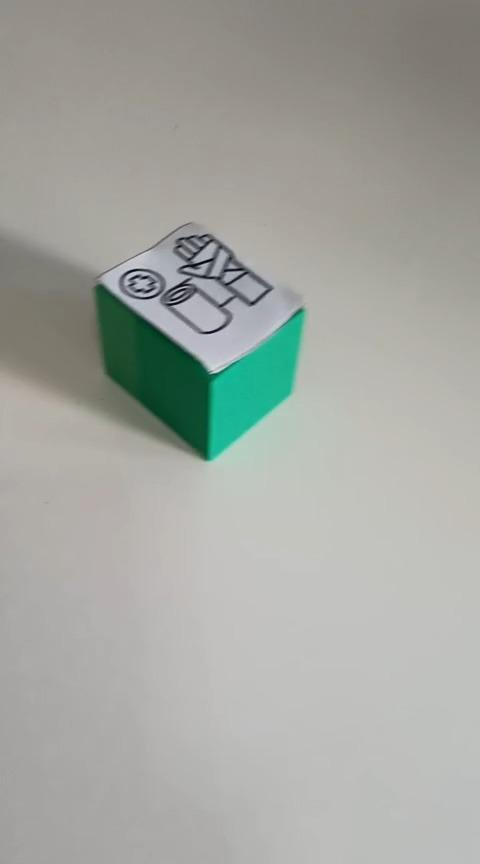Bandages: (92, 220, 306, 461)
